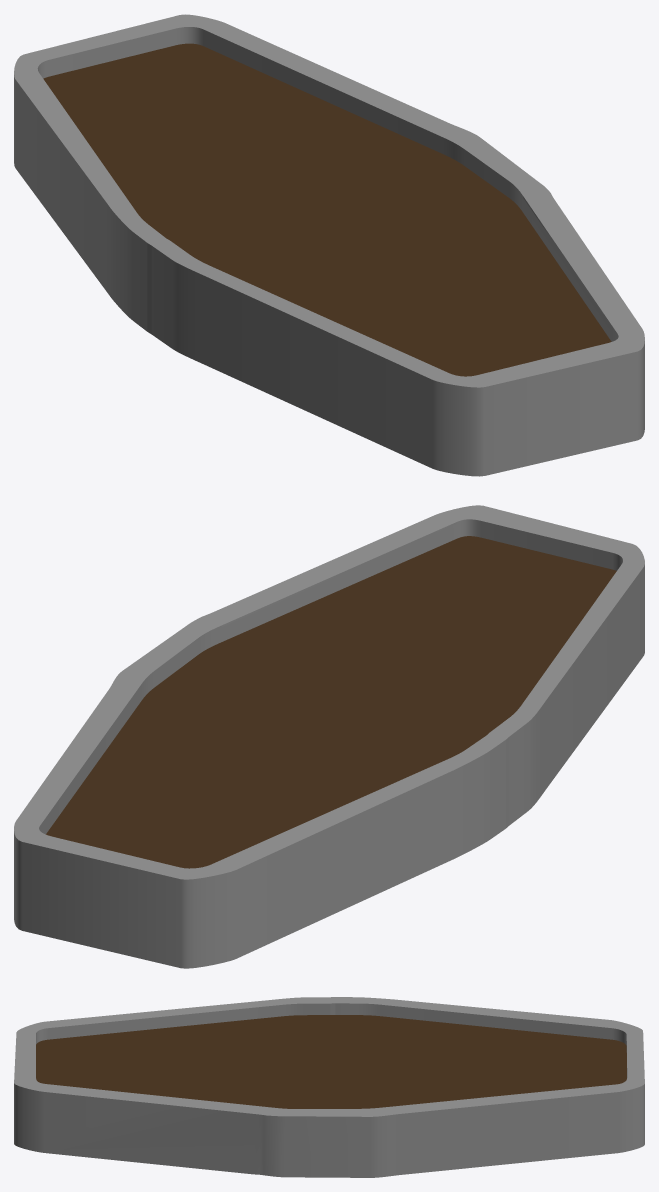
Rendered from ButtonsOfUnderSignsPRO.FBX.
3 renders of one model, top to bottom at view 1: azimuth 30°, elevation 25°; view 2: azimuth 150°, elevation 25°; view 3: azimuth 270°, elevation 25°, orthographic. The views are drawn at different scales.
Visible parts, largest first — view 1: Line015; view 2: Line015; view 3: Line015.
Boxes of the visible parts, x1,y1,x2,y2 form: Line015: (14,14,644,476); Line015: (14,505,644,968); Line015: (14,997,644,1177).
Bounding box in the file's own units: 12.15 × 2.89 × 27.01.
